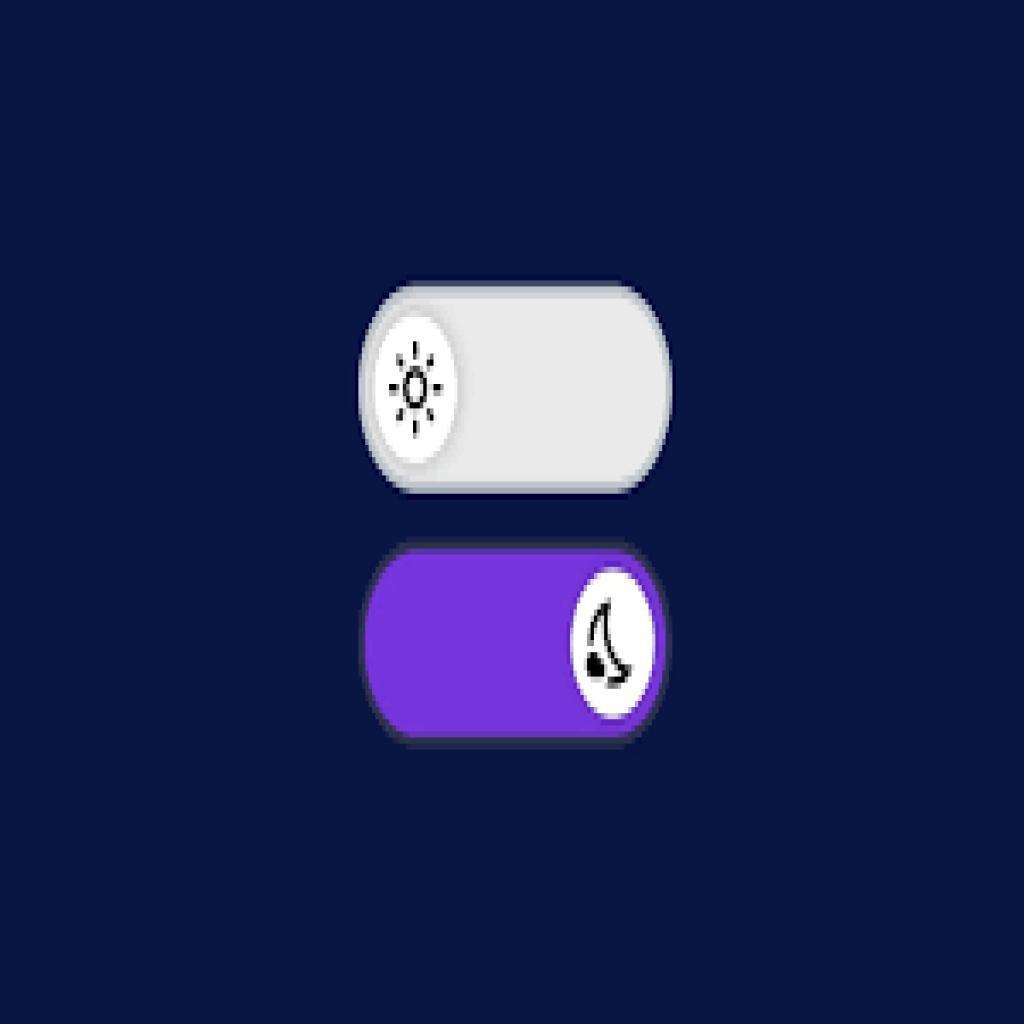switch: (359, 286, 675, 492), (364, 549, 669, 742)
